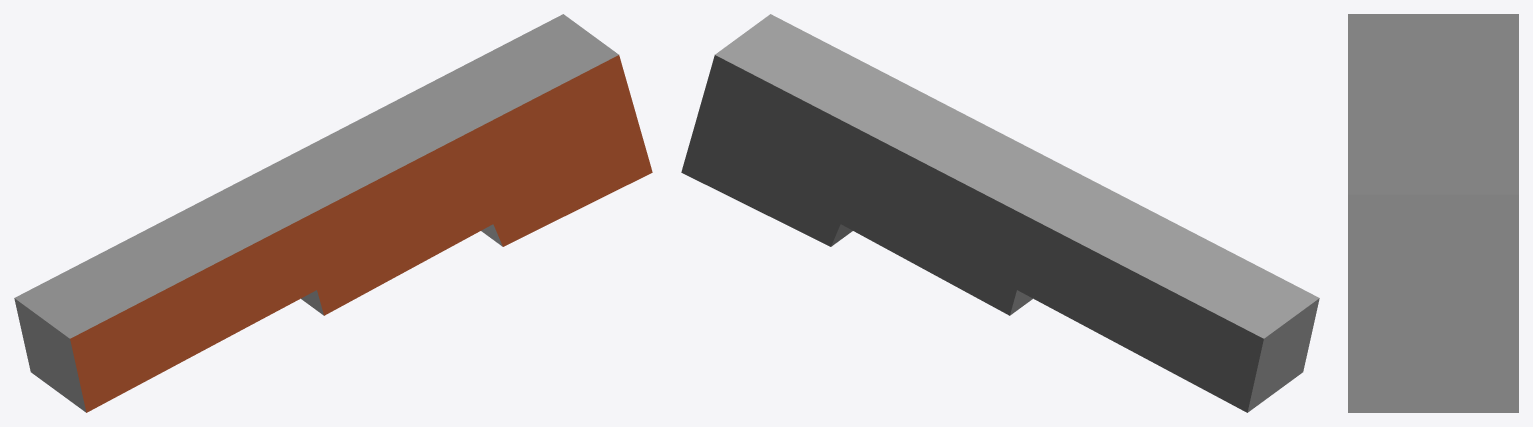
The model's file is construction_4344_assumed_A_Casa_h6m.obj.
3 renders of one model, left to right at view 1: azimuth 30°, elevation 25°; view 2: azimuth 150°, elevation 25°; view 3: azimuth 270°, elevation 25°, orthographic. The views are drawn at different scales.
Parts seen in each view (by area): view 1: construction_4344_assumed_A_Casa; view 2: construction_4344_assumed_A_Casa; view 3: construction_4344_assumed_A_Casa.
Part boxes in pixels (x1=…): construction_4344_assumed_A_Casa: x1=14, y1=14, x2=652, y2=412; construction_4344_assumed_A_Casa: x1=681, y1=14, x2=1319, y2=412; construction_4344_assumed_A_Casa: x1=1348, y1=14, x2=1518, y2=412.
Size of the model in its own units: 36.19 by 13.55 by 6.
